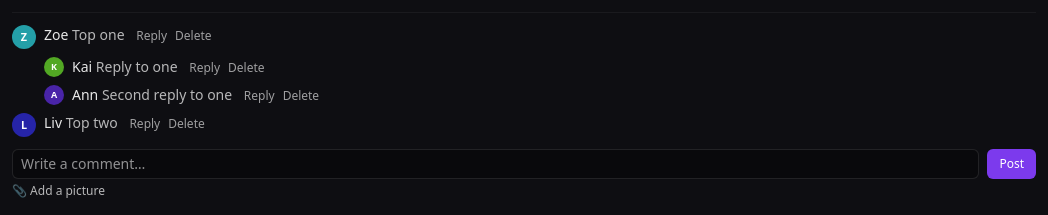
Scenario: CommentThread: replies › takes the replies away with the comment, and counts all of them
Click the button with aria-label "Delete comment by Zoe". click: (193, 36)
box: [175,28,212,44]
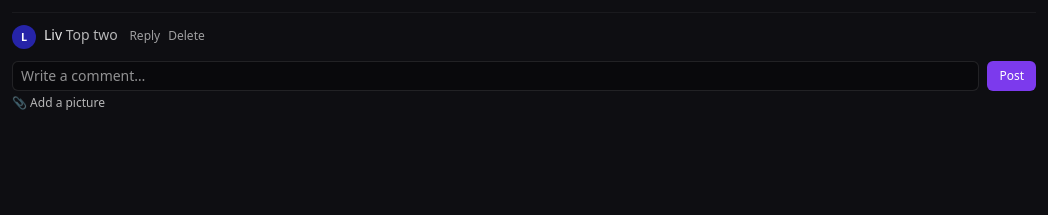
Result: the text "Top one" is gone
Result: the text "Reply to one" is gone
Result: the text "Second reply to one" is gone
